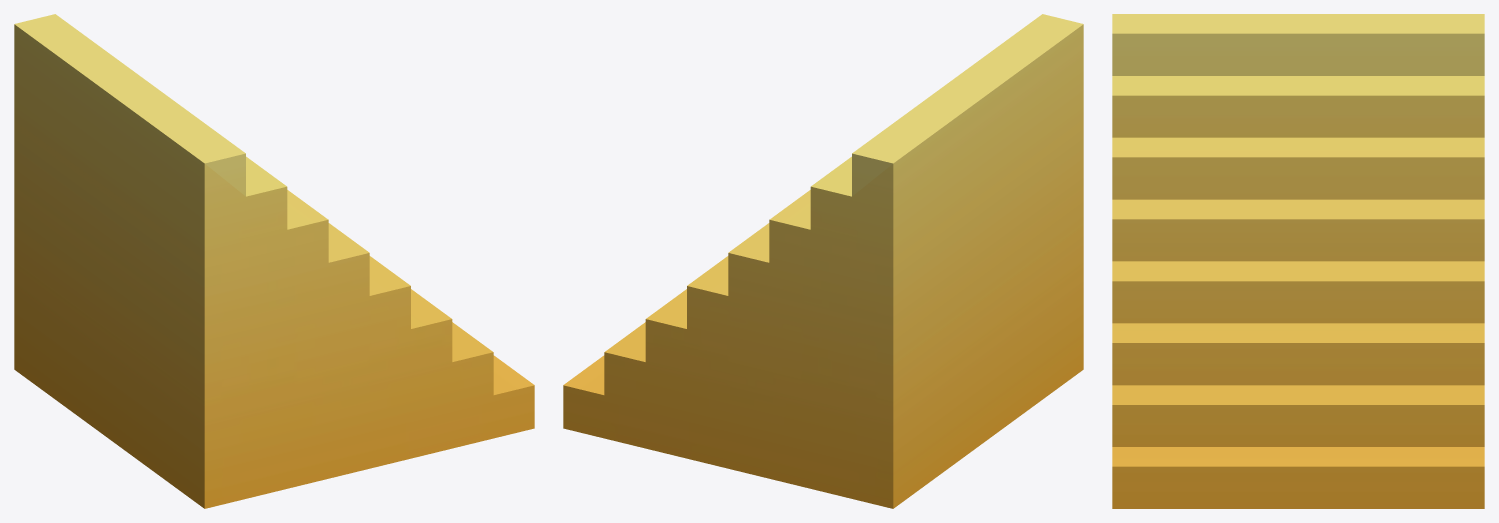
The model's file is primitive-stairs.glb.
3 renders of one model, left to right at view 1: azimuth 30°, elevation 25°; view 2: azimuth 150°, elevation 25°; view 3: azimuth 270°, elevation 25°, orthographic. The views are drawn at different scales.
Parts seen in each view (by area): view 1: Primitive_Stairs; view 2: Primitive_Stairs; view 3: Primitive_Stairs.
Boxes of the visible parts, x1,y1,x2,y2 form: Primitive_Stairs: (14,14,534,508); Primitive_Stairs: (563,14,1083,508); Primitive_Stairs: (1112,14,1484,508).
Size of the model in its own units: 4 by 4 by 4.
Materials: 1 (1 with a texture image).
